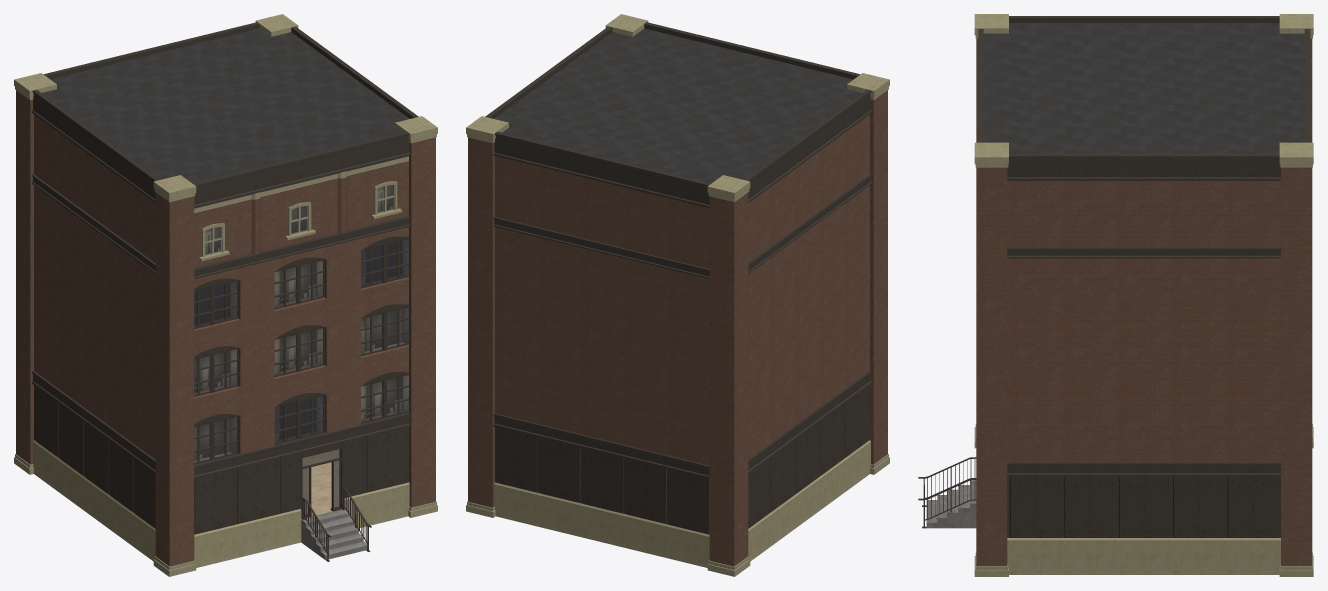
The model's file is Building_Small_1.gltf.
3 views of the same model, side by side, from view 1: azimuth 30°, elevation 25°; view 2: azimuth 150°, elevation 25°; view 3: azimuth 270°, elevation 25° (orthographic). The views are drawn at different scales.
Visible parts, largest first — view 1: Building_Small_1; view 2: Building_Small_1; view 3: Building_Small_1.
Part boxes in pixels (x1,y1,x2,y2): Building_Small_1: (14,14,437,576); Building_Small_1: (466,14,889,576); Building_Small_1: (918,14,1313,576).
Size of the model in its own units: 12.46 by 17.03 by 14.54.
13 materials, 12 textured.
